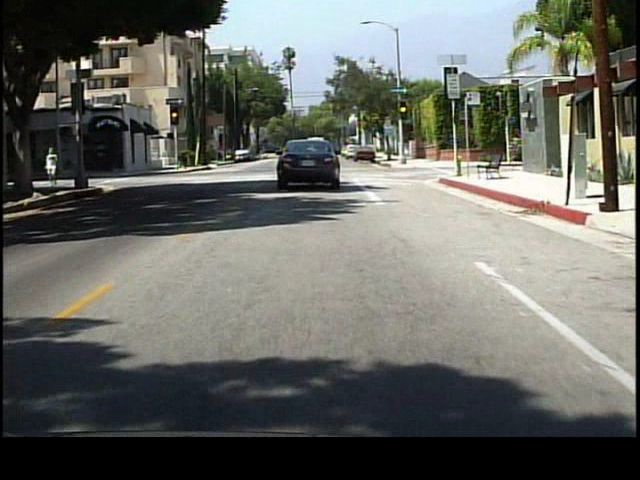person: (47, 145, 66, 190)
